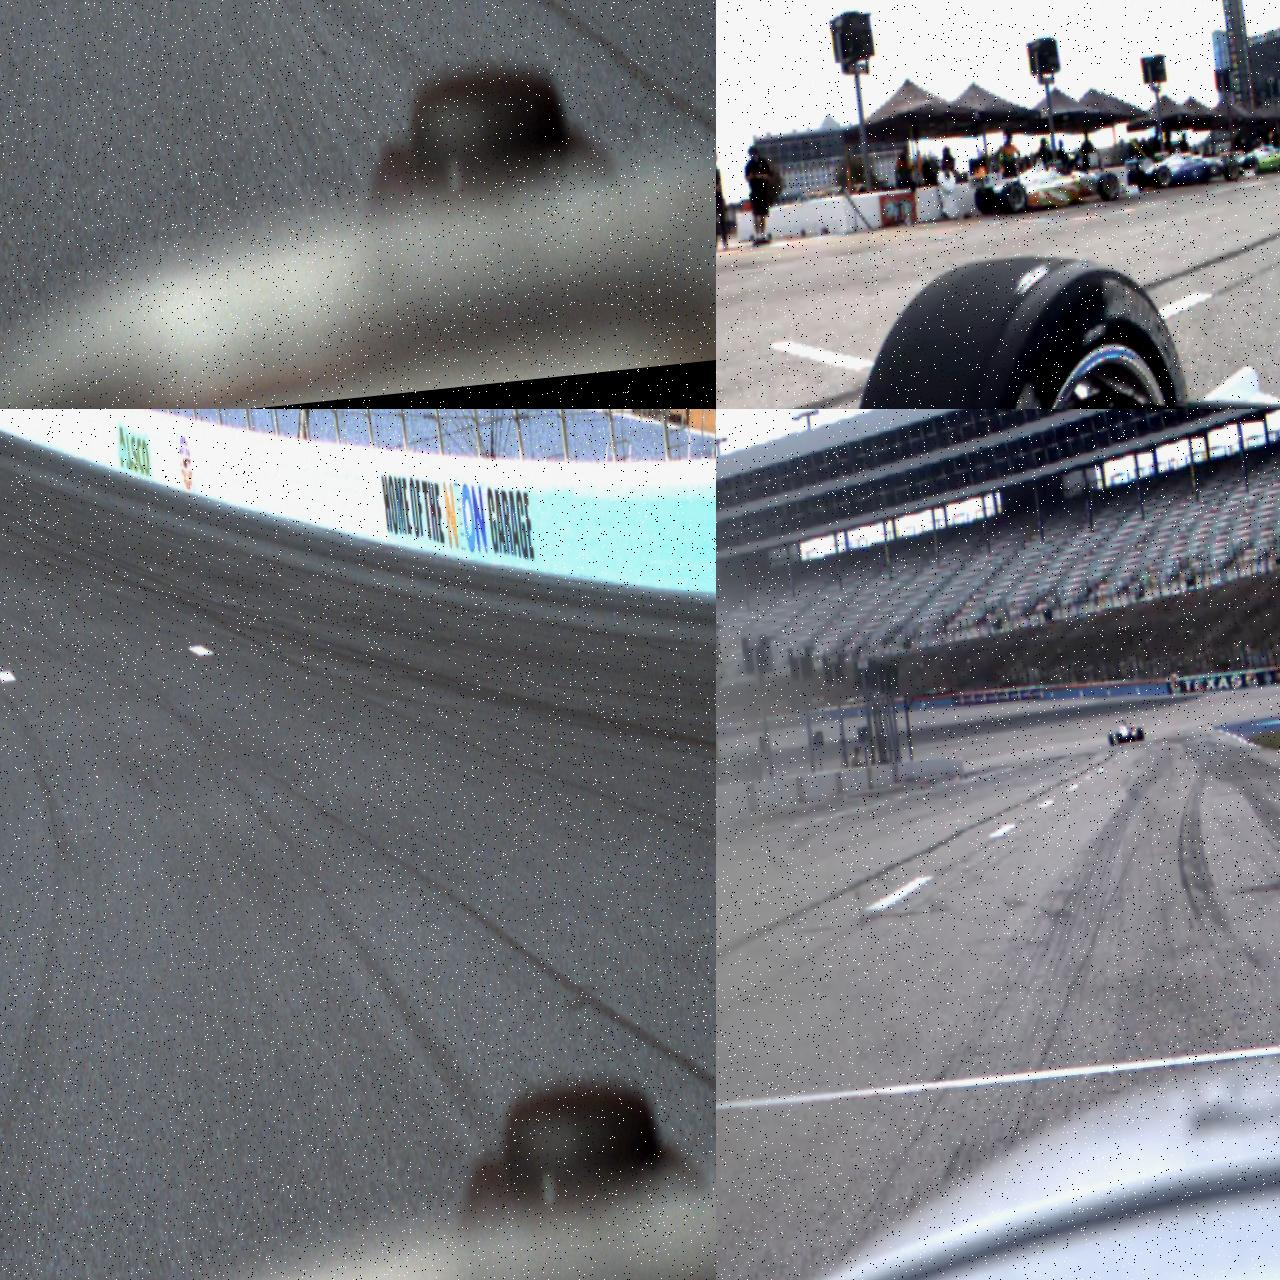AV: (970, 144, 1123, 218), (1124, 134, 1240, 193), (1235, 133, 1280, 178), (1106, 717, 1146, 746)
Wheel: (820, 240, 1232, 409), (1000, 180, 1028, 215), (1096, 172, 1120, 202), (974, 186, 997, 216), (1154, 164, 1174, 190), (1126, 168, 1146, 193), (1222, 158, 1240, 183), (1244, 154, 1262, 176), (1108, 731, 1114, 746), (1138, 728, 1144, 742)
